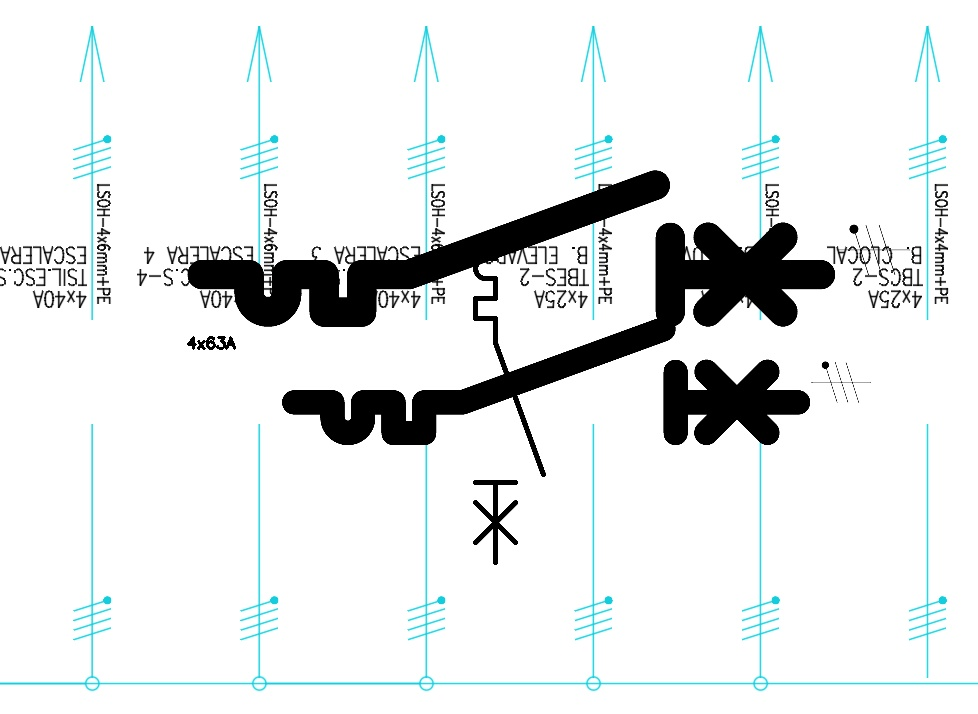interruptor_termomagnetico: (186, 169, 836, 328), (281, 316, 811, 446), (467, 225, 551, 571)
